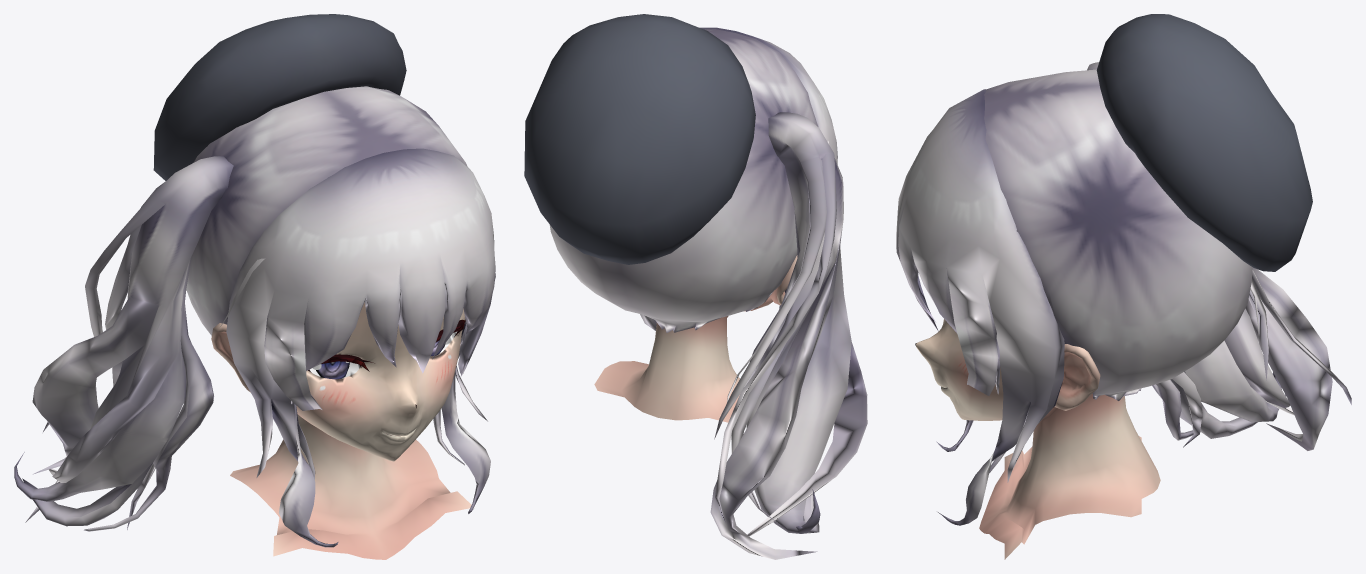
The model's file is justahead.fbx.
3 renders of one model, left to right at view 1: azimuth 30°, elevation 25°; view 2: azimuth 150°, elevation 25°; view 3: azimuth 270°, elevation 25°, orthographic. The views are drawn at different scales.
Visible parts, largest first — view 1: Body.002; view 2: Body.002; view 3: Body.002.
Part boxes in pixels (x1,y1,x2,y2): Body.002: [14, 14, 495, 559]; Body.002: [524, 14, 867, 559]; Body.002: [896, 14, 1351, 559].
Bounding box in the file's own units: 25.93 × 33.76 × 27.15.
